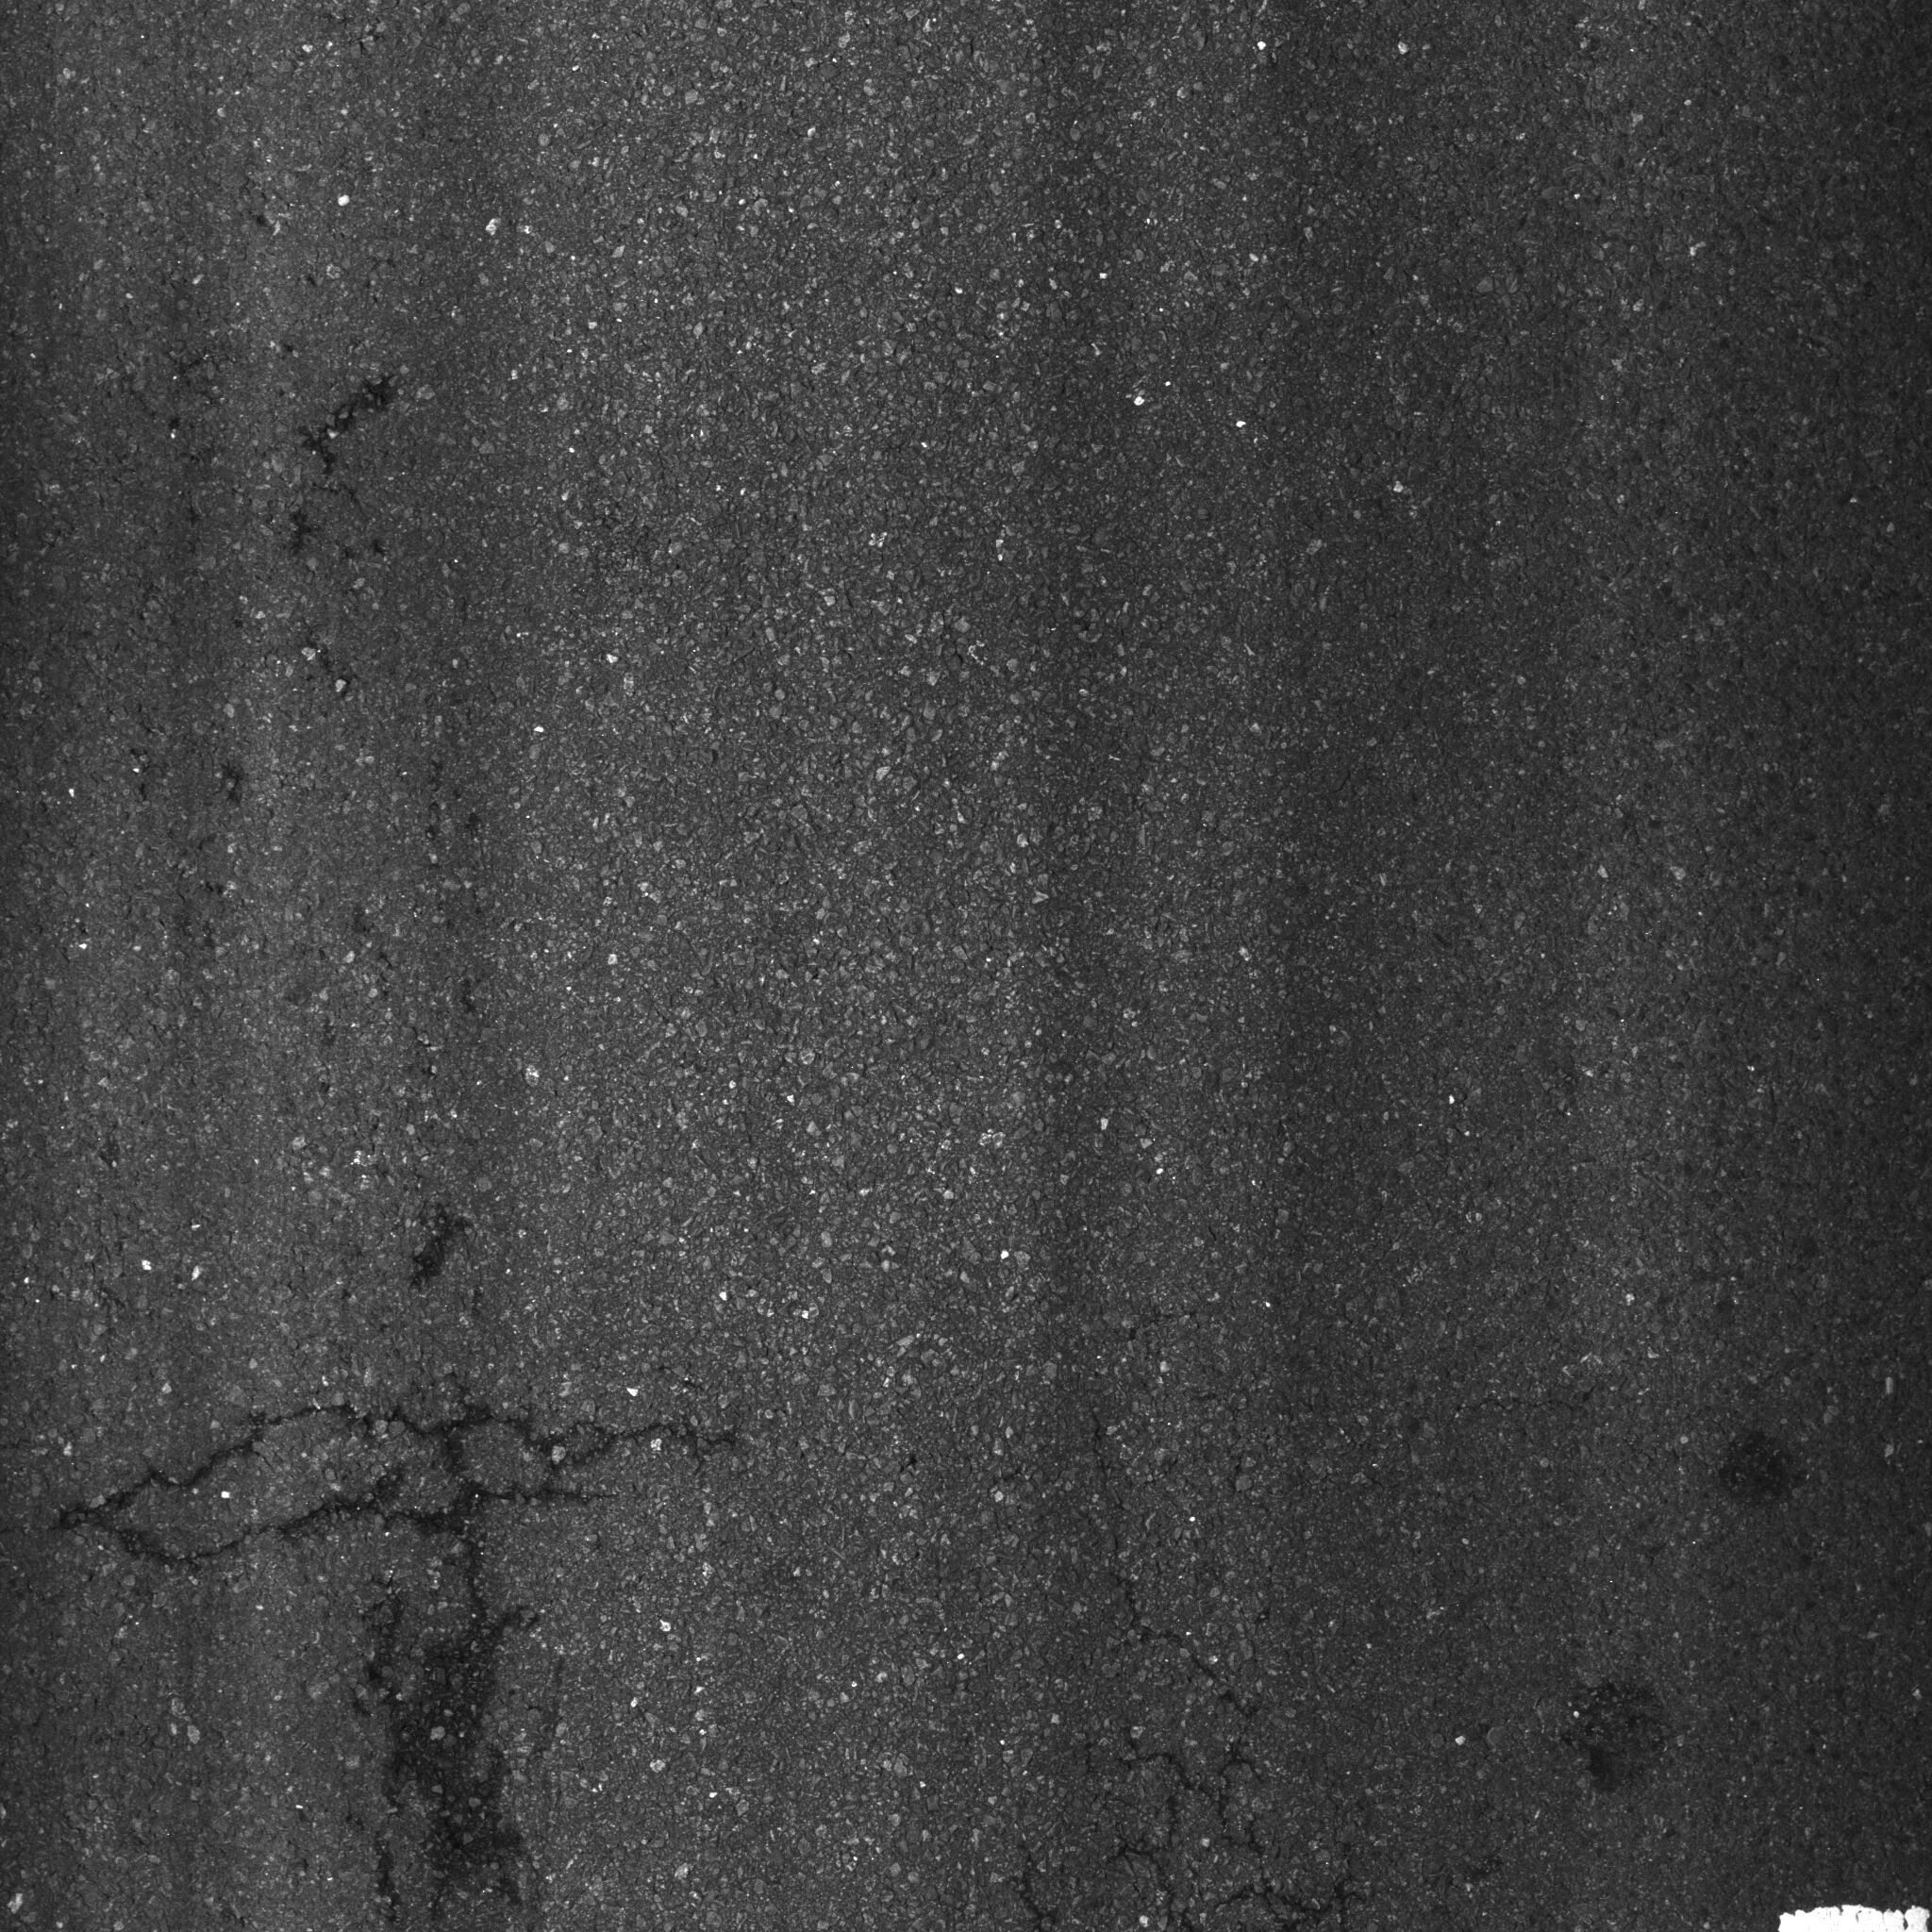alligator: (50, 1339, 745, 1932), (966, 1359, 1518, 1923)
